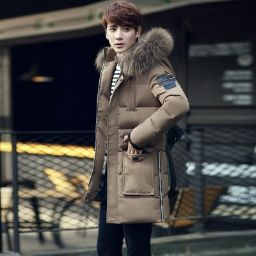face: (101, 1, 143, 55)
